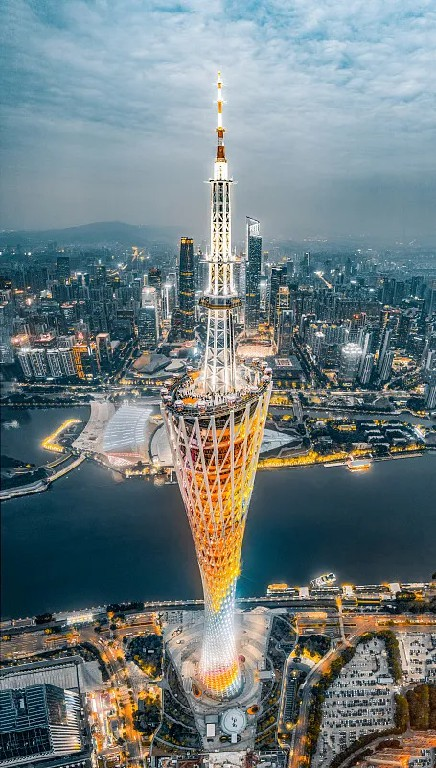Canton: (164, 69, 275, 702)
